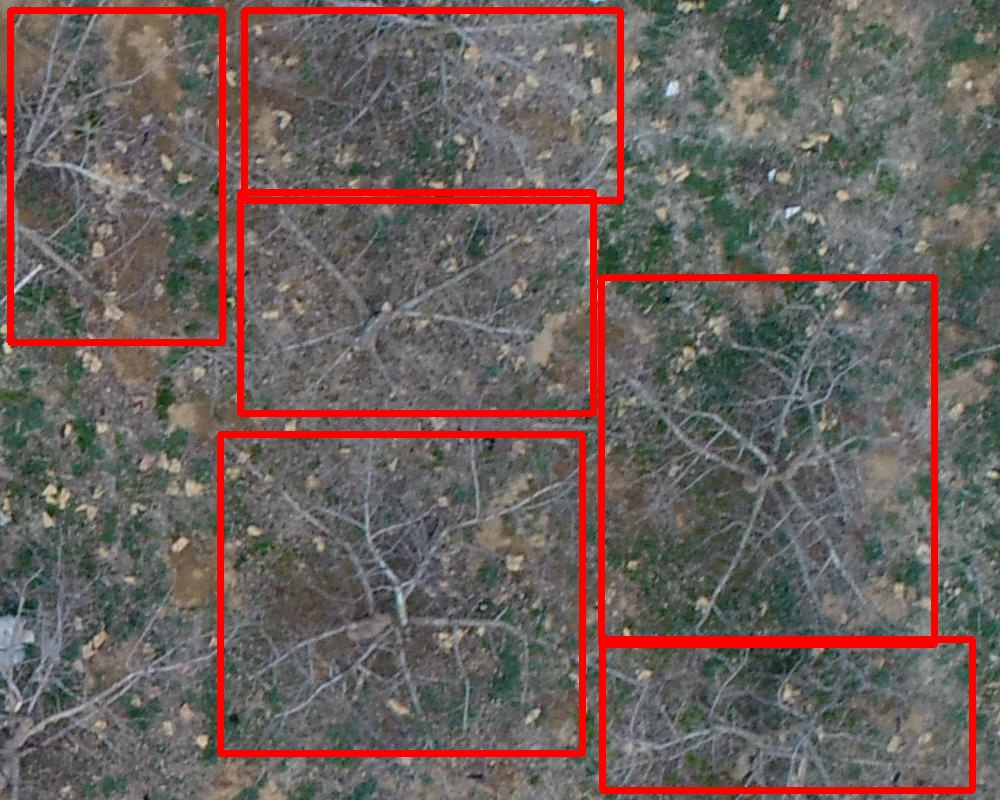apple: (601, 277, 934, 644), (220, 434, 582, 753), (240, 192, 593, 413), (244, 10, 620, 200), (10, 10, 222, 342), (602, 639, 972, 790)
